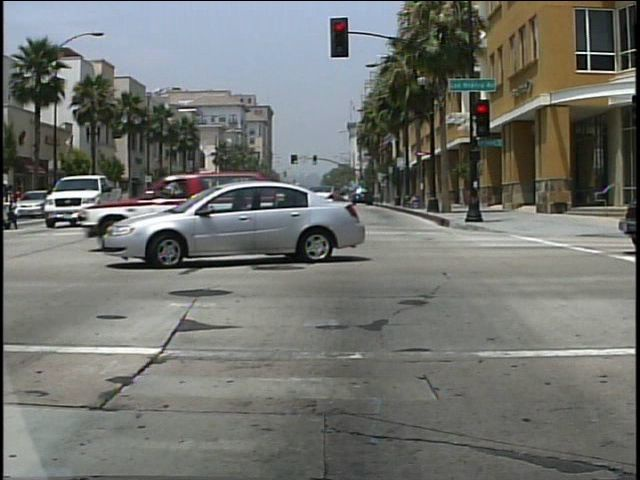person: (1, 179, 22, 233)
